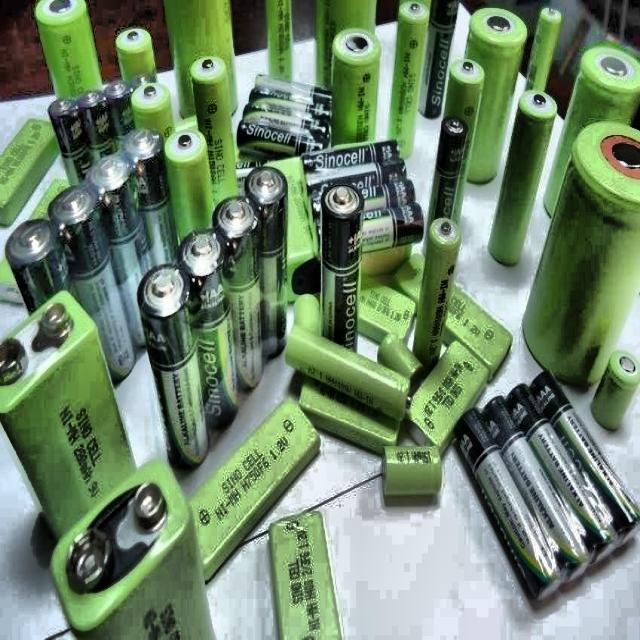Non-Valuable Waste - Batteries: (455, 371, 640, 600), (0, 292, 135, 537), (522, 122, 640, 385), (51, 459, 211, 639), (189, 399, 320, 579), (49, 186, 135, 379), (544, 47, 640, 215), (138, 265, 209, 467), (302, 139, 424, 253), (489, 90, 558, 265), (286, 324, 410, 421), (89, 154, 150, 347), (179, 230, 238, 427), (465, 8, 528, 182), (214, 196, 262, 390), (269, 512, 341, 639), (49, 81, 135, 183), (165, 0, 238, 119), (245, 166, 288, 357), (238, 75, 331, 158), (122, 128, 178, 265), (414, 218, 461, 369), (321, 184, 364, 349), (191, 56, 238, 205), (388, 2, 430, 158), (444, 58, 484, 221), (35, 0, 101, 98), (5, 218, 68, 313), (331, 28, 381, 144), (165, 130, 214, 240), (419, 0, 458, 118), (591, 350, 640, 428), (525, 8, 562, 91), (131, 83, 175, 140), (116, 28, 156, 80), (267, 0, 291, 80), (436, 117, 468, 176)
